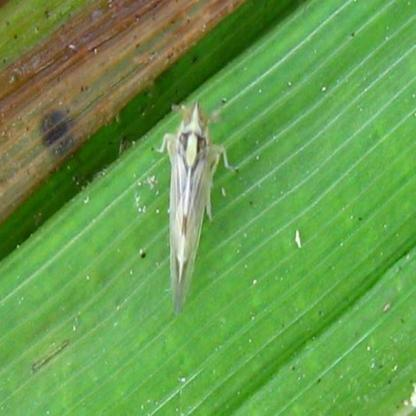brown-planthopper: (164, 102, 212, 312)
